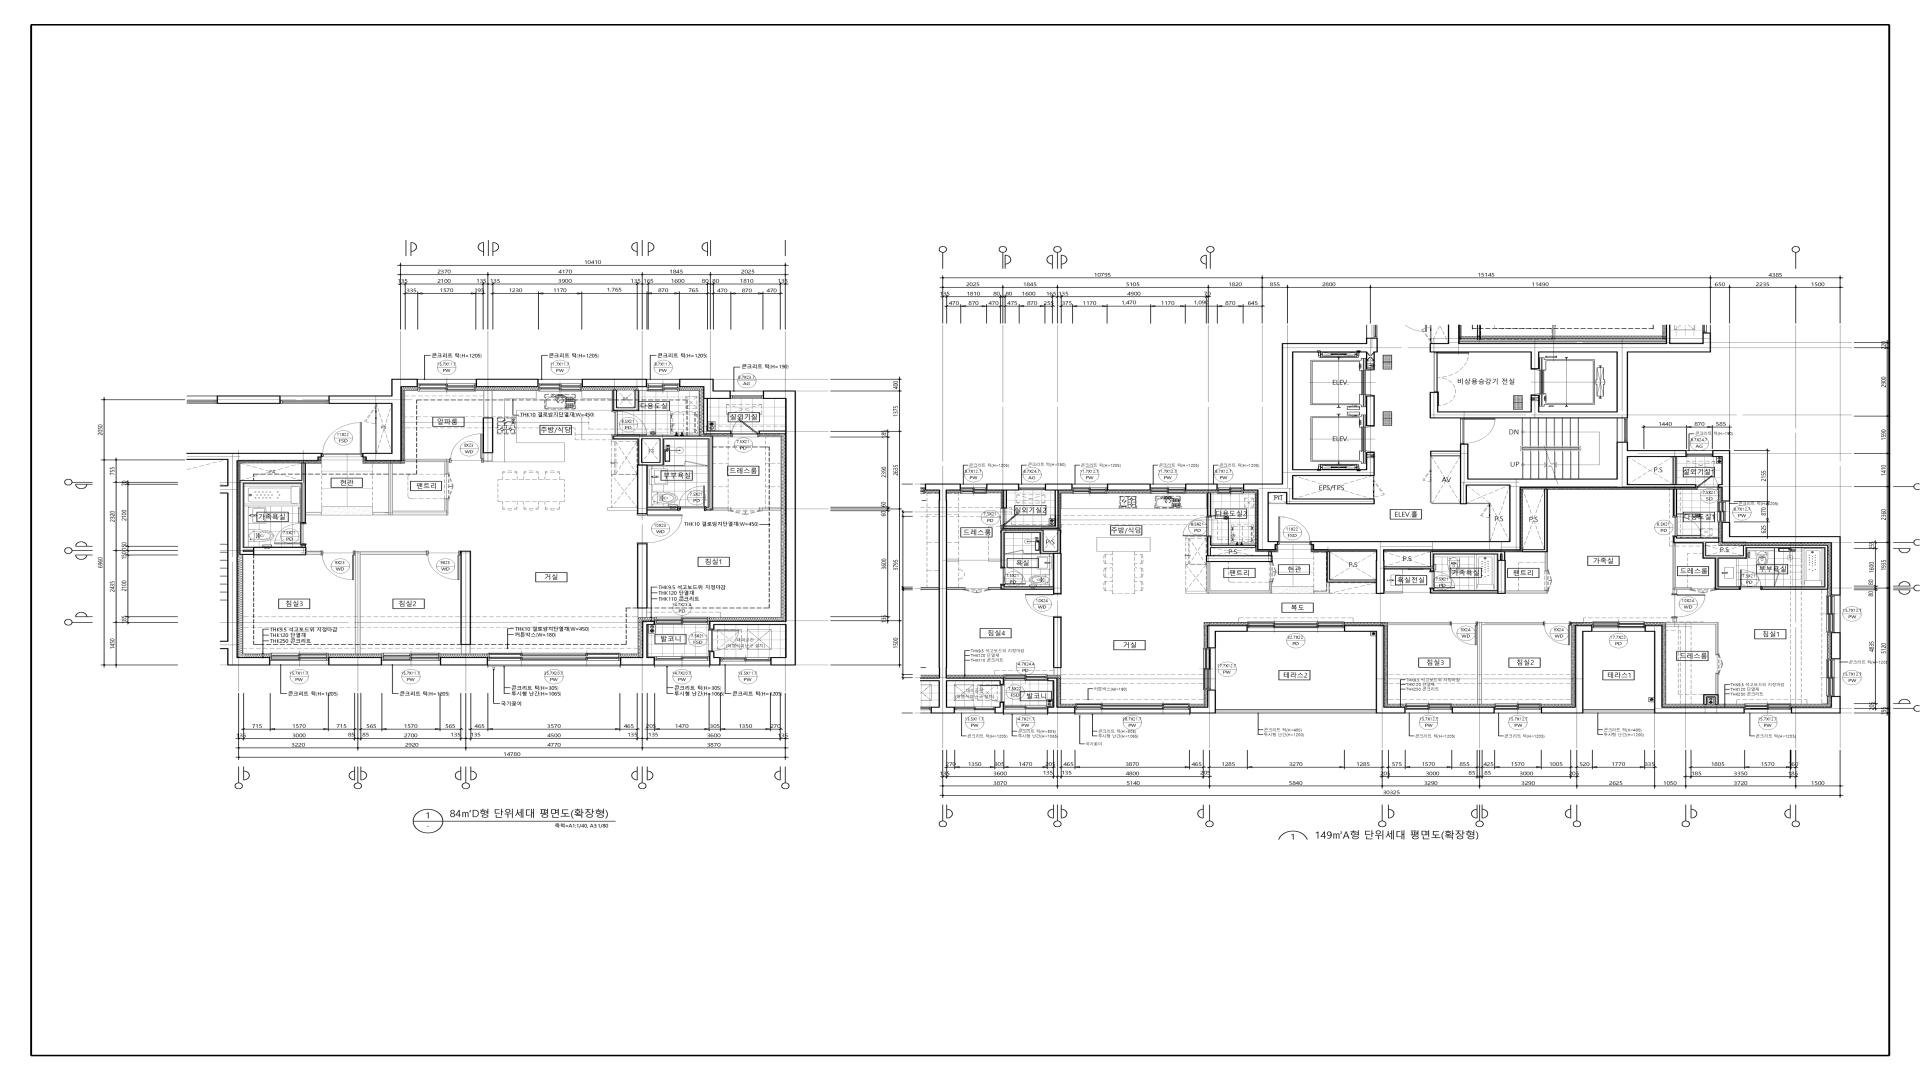door: (1433, 352, 1470, 392), (637, 513, 683, 545), (322, 422, 363, 458), (427, 551, 460, 580), (450, 434, 483, 463), (322, 551, 355, 580), (1460, 418, 1495, 444), (1278, 517, 1311, 545), (612, 411, 647, 436), (1025, 593, 1062, 617), (1672, 593, 1706, 618), (678, 485, 705, 512), (709, 629, 741, 651), (274, 522, 306, 545), (1451, 622, 1477, 646), (1544, 622, 1572, 645), (1182, 517, 1212, 537), (1673, 517, 1701, 537), (731, 419, 760, 436), (1000, 567, 1026, 585), (1429, 571, 1456, 589), (977, 684, 1004, 703), (1739, 570, 1762, 591), (1001, 508, 1019, 526), (1696, 475, 1718, 489), (729, 508, 762, 516), (444, 473, 454, 498), (965, 587, 989, 595), (1691, 587, 1716, 593), (1544, 571, 1552, 591), (1269, 562, 1276, 582), (684, 460, 707, 467), (1716, 655, 1724, 674), (1774, 571, 1780, 587), (1005, 550, 1023, 554)
wall: (1311, 442, 1687, 595), (1244, 338, 1378, 550), (709, 390, 798, 666), (227, 452, 322, 666), (1189, 625, 1406, 713), (1542, 625, 1745, 713), (1429, 343, 1629, 418), (939, 484, 1004, 713), (613, 435, 729, 513), (1672, 537, 1829, 593), (1722, 522, 1841, 596), (240, 463, 322, 555), (355, 551, 427, 654), (328, 378, 418, 462), (1385, 551, 1548, 593), (1477, 622, 1544, 704), (1185, 537, 1273, 593), (989, 530, 1062, 595), (372, 464, 448, 516), (1313, 551, 1375, 593), (1522, 489, 1548, 571), (1004, 491, 1059, 529), (1629, 458, 1697, 488), (1667, 618, 1720, 655), (620, 621, 655, 666), (460, 551, 471, 654), (679, 378, 731, 400), (703, 398, 731, 434), (1207, 625, 1247, 649), (1713, 450, 1730, 501), (1792, 696, 1841, 713), (637, 545, 647, 617), (483, 390, 493, 462), (253, 545, 322, 555), (405, 459, 450, 473), (582, 378, 647, 388), (612, 390, 640, 411), (476, 378, 538, 388), (216, 396, 281, 404), (328, 657, 382, 666), (1704, 674, 1718, 705), (1054, 617, 1062, 675), (440, 657, 488, 666), (1047, 678, 1058, 707), (1106, 484, 1151, 491), (1830, 632, 1841, 659), (1452, 707, 1495, 713), (1366, 396, 1375, 426), (986, 484, 1018, 491), (1185, 484, 1217, 491), (1048, 707, 1075, 713), (1046, 484, 1072, 491), (709, 651, 721, 666), (1387, 622, 1451, 625), (1431, 451, 1460, 456), (1207, 493, 1212, 517), (1673, 489, 1677, 517), (760, 430, 786, 434), (994, 703, 1004, 713), (1004, 491, 1007, 509), (642, 435, 659, 439), (947, 587, 965, 589), (762, 508, 781, 510), (1385, 591, 1403, 593), (947, 559, 959, 562), (1718, 484, 1722, 488)
window: (488, 653, 620, 667), (1075, 704, 1191, 715), (1247, 621, 1345, 632), (382, 653, 440, 666), (418, 378, 476, 392), (270, 653, 328, 666), (538, 378, 582, 392), (655, 657, 709, 667), (1203, 647, 1216, 690), (1826, 659, 1841, 696), (1826, 596, 1841, 633), (1592, 622, 1646, 632), (721, 657, 771, 666), (1745, 704, 1792, 713), (655, 617, 709, 625), (1495, 704, 1542, 713), (1406, 704, 1452, 713), (647, 378, 679, 392), (1004, 705, 1048, 715), (281, 396, 328, 404), (1072, 484, 1106, 493), (1151, 484, 1185, 493), (1004, 675, 1047, 682), (1617, 418, 1629, 442), (1217, 484, 1244, 495), (955, 707, 994, 713), (731, 390, 764, 398), (1718, 501, 1730, 522), (960, 484, 986, 493), (187, 396, 216, 404), (1687, 450, 1713, 458), (1018, 484, 1046, 491)
